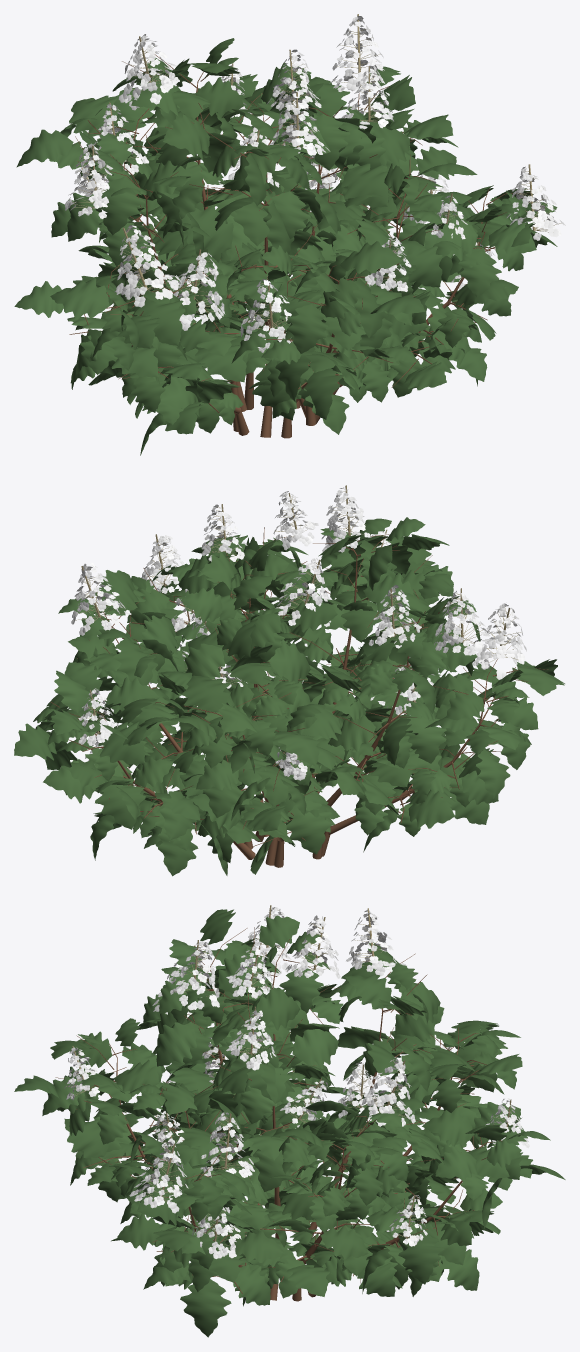
Rendered from hydrangea.glb.
The picture shows the model from 3 angles, top to bottom: view 1: azimuth 30°, elevation 25°; view 2: azimuth 150°, elevation 25°; view 3: azimuth 270°, elevation 25°; orthographic projection. The views are drawn at different scales.
Visible parts, largest first — view 1: leaves, blooms, branches; view 2: leaves, blooms, branches; view 3: leaves, blooms, branches.
Part boxes in pixels (x1,y1,x2,y2): leaves: (14,38,557,455); blooms: (65,14,565,352); branches: (69,54,529,438); leaves: (14,517,564,876); blooms: (71,485,526,780); branches: (51,527,548,867); leaves: (14,909,565,1337); blooms: (64,905,529,1258); branches: (55,927,502,1301).
Bounding box in the file's own units: 3.41 × 2.54 × 3.65.
